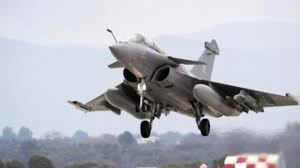fighter: (69, 26, 298, 139)
